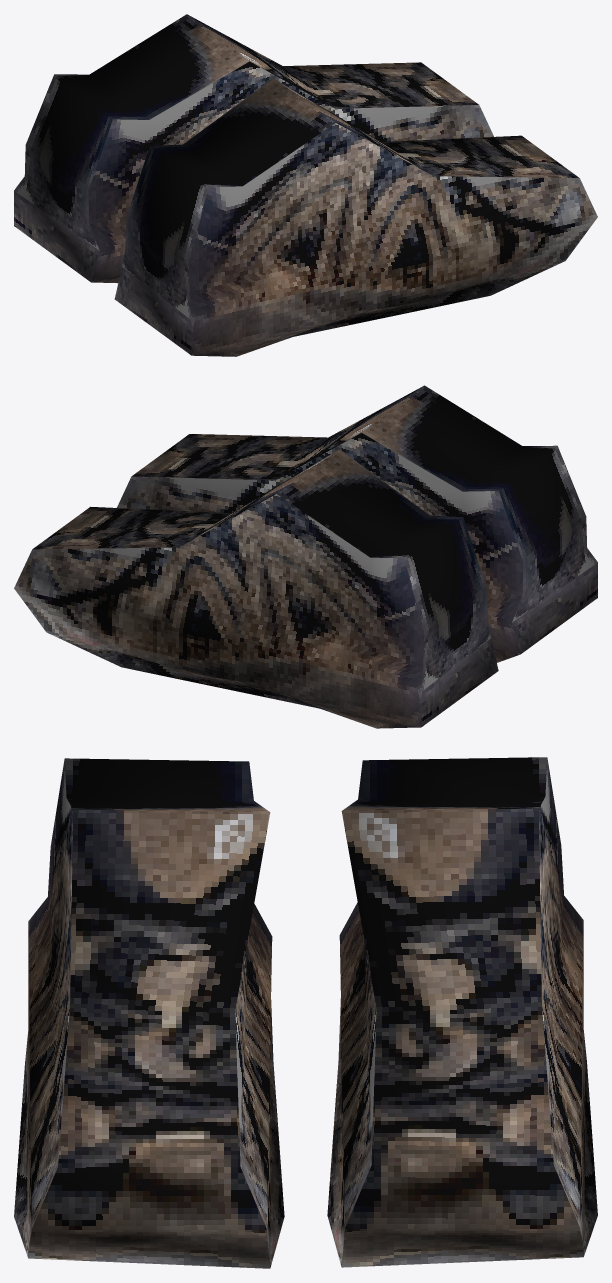
Rendered from lowpolyshoes-mine.glb.
3 views of the same model, one above another, from view 1: azimuth 30°, elevation 25°; view 2: azimuth 150°, elevation 25°; view 3: azimuth 270°, elevation 25° (orthographic). The views are drawn at different scales.
Parts seen in each view (by area): view 1: Sneakers; view 2: Sneakers; view 3: Sneakers.
Boxes of the visible parts, x1,y1,x2,y2 form: Sneakers: (14, 14, 597, 356); Sneakers: (14, 385, 597, 728); Sneakers: (14, 757, 597, 1268).
Bounding box in the file's own units: 0.2619 × 0.1294 × 0.2065.
Materials: 1 (1 with a texture image).
